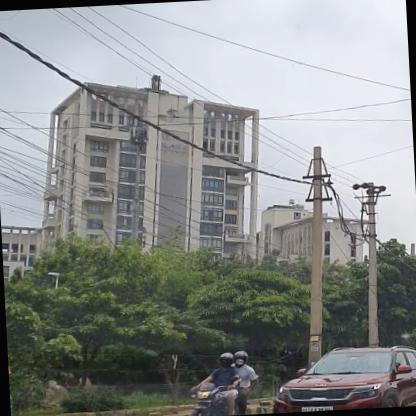car: (267, 342, 415, 413)
motorcycle: (182, 348, 262, 415)
